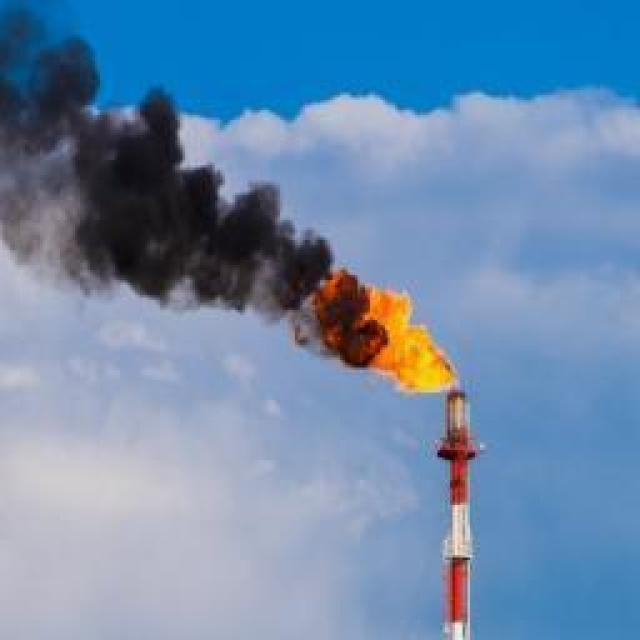fire: (312, 269, 459, 392)
smoke: (0, 4, 341, 362)
